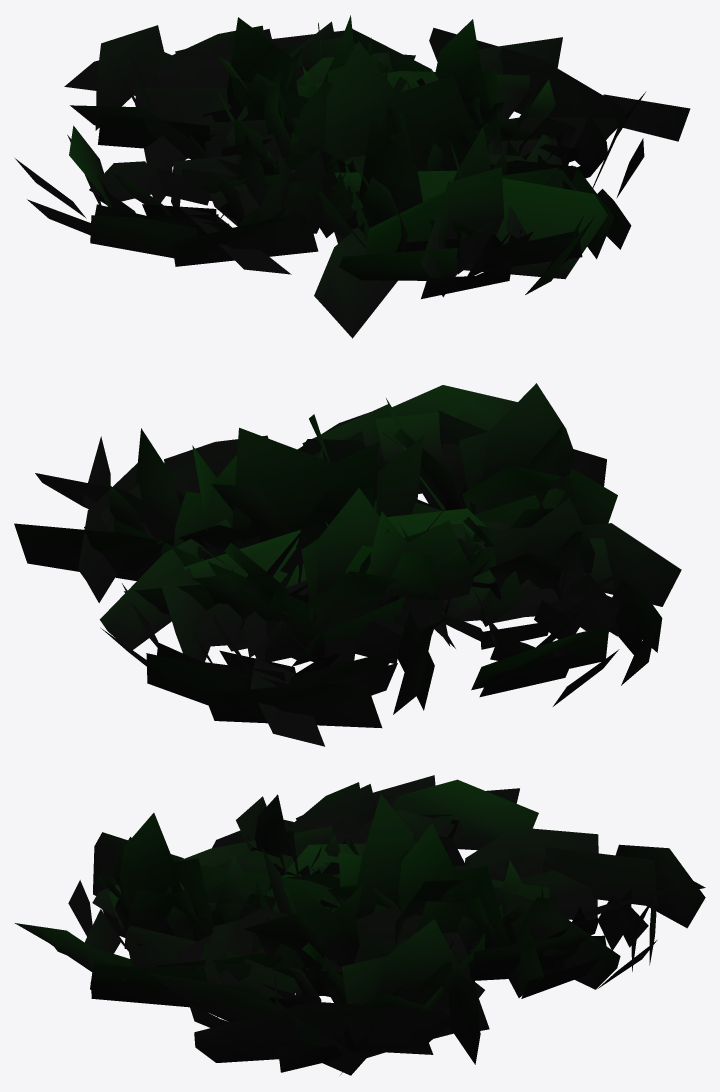
File: Grass Mixed_L.fbx
3 renders of one model, top to bottom at view 1: azimuth 30°, elevation 25°; view 2: azimuth 150°, elevation 25°; view 3: azimuth 270°, elevation 25°, orthographic. The views are drawn at different scales.
Visible parts, largest first — view 1: Grass MixedL_G_LOD0, Grass MixedL_F_LOD0; view 2: Grass MixedL_G_LOD0, Grass MixedL_F_LOD0; view 3: Grass MixedL_G_LOD0, Grass MixedL_F_LOD0.
Part boxes in pixels (left/top/right/bottom): Grass MixedL_G_LOD0: left=15, top=21, right=690, bottom=338; Grass MixedL_F_LOD0: left=217, top=15, right=576, bottom=274; Grass MixedL_G_LOD0: left=14, top=385, right=681, bottom=746; Grass MixedL_F_LOD0: left=109, top=383, right=594, bottom=661; Grass MixedL_G_LOD0: left=14, top=775, right=705, bottom=1075; Grass MixedL_F_LOD0: left=99, top=794, right=558, bottom=1057.
Size of what is drawn, in the model's own units: 3.66 by 1.08 by 3.73.
